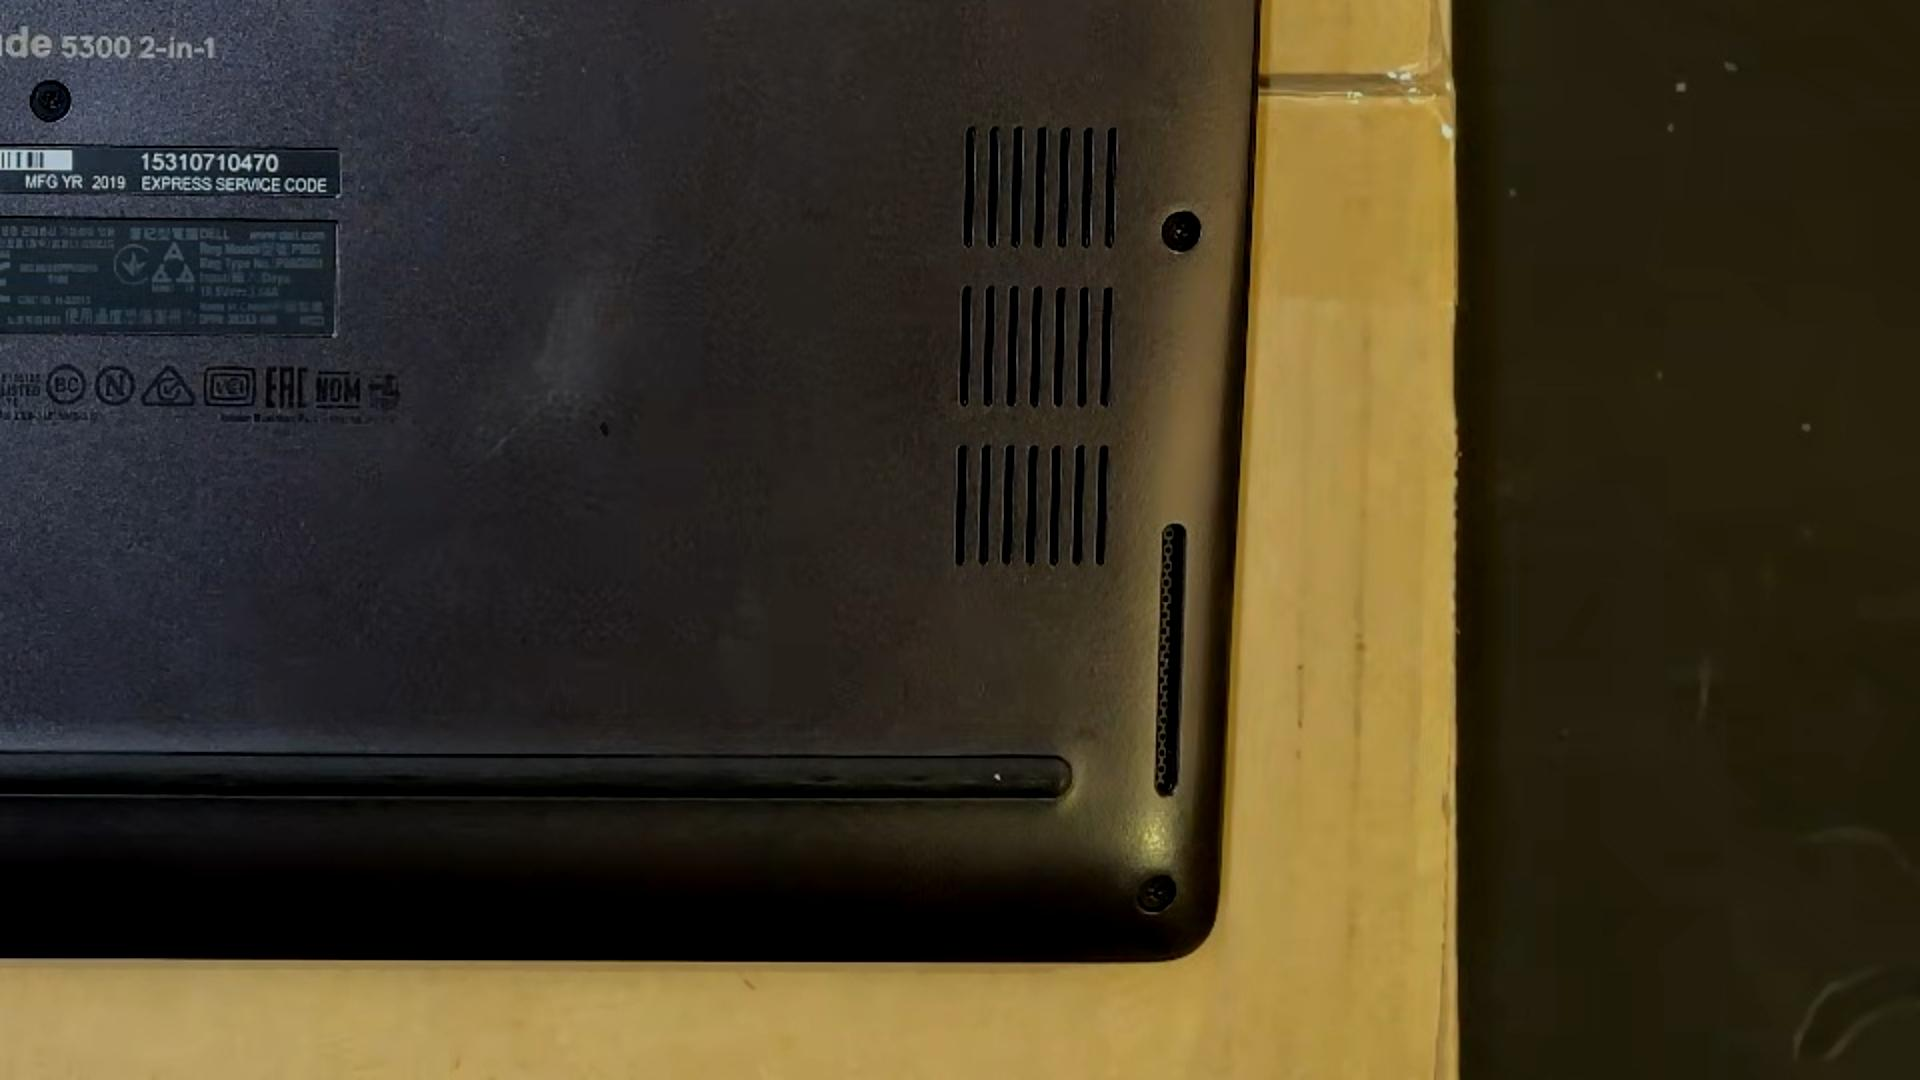chip: (596, 419, 613, 440), (992, 771, 1002, 782)
scratches: (460, 401, 545, 476)
